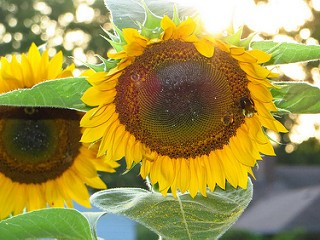flower: (77, 15, 291, 200), (0, 41, 121, 223)
